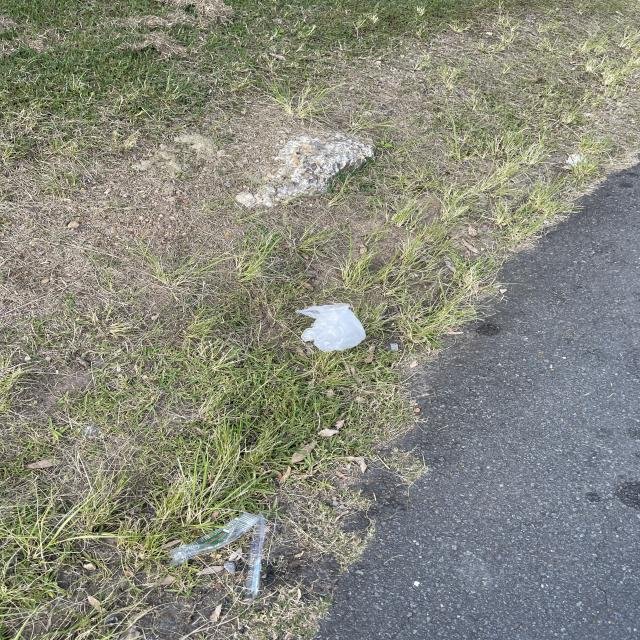bag: (294, 303, 366, 352)
container: (168, 512, 266, 600)
